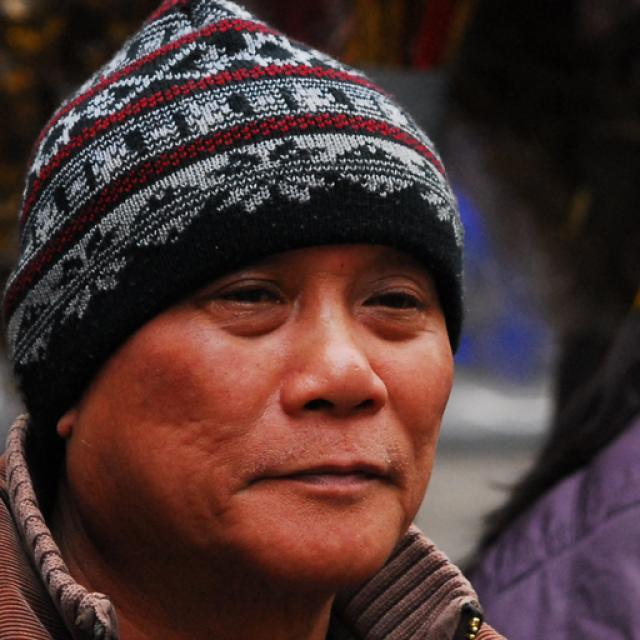sad: (95, 202, 456, 578)
